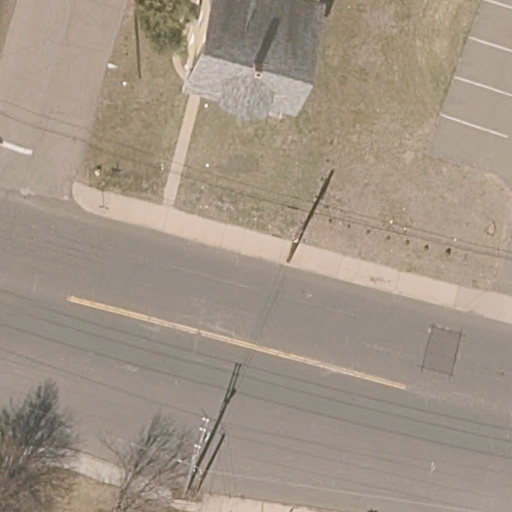DT: (175, 414, 213, 496), (286, 216, 308, 264)
